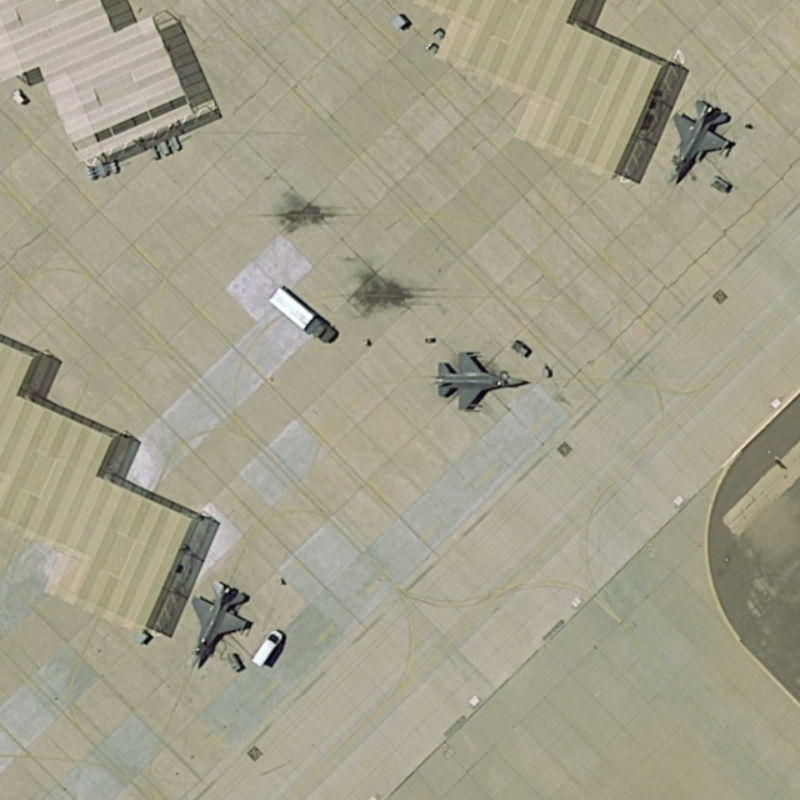A5: (661, 94, 739, 192), (429, 347, 532, 416), (184, 576, 252, 675)
